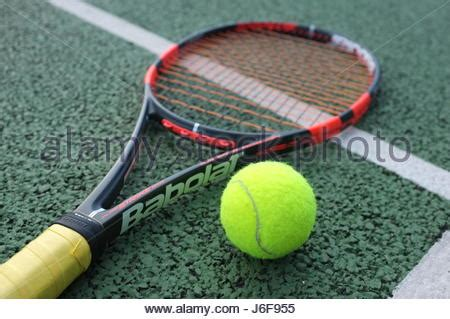tennis_ball: (219, 161, 317, 259)
